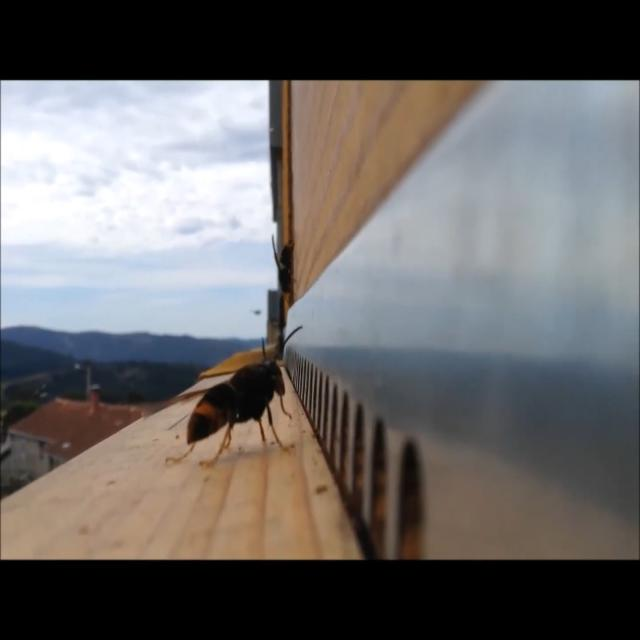Hornets: (151, 327, 304, 465), (268, 233, 298, 301)
